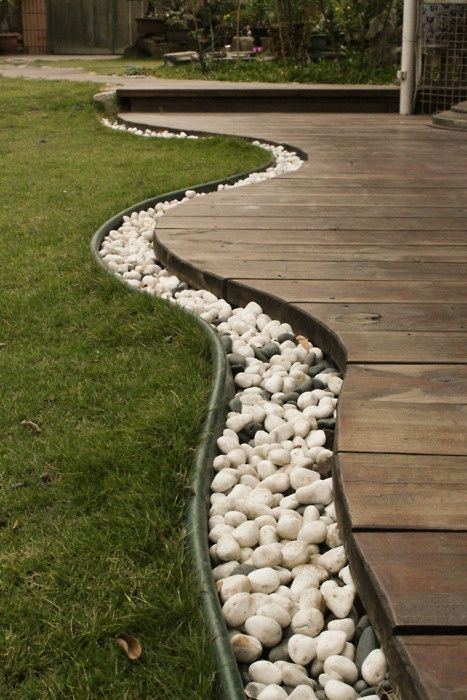grass: (4, 78, 257, 693)
rock: (206, 301, 379, 694), (99, 186, 213, 304)
